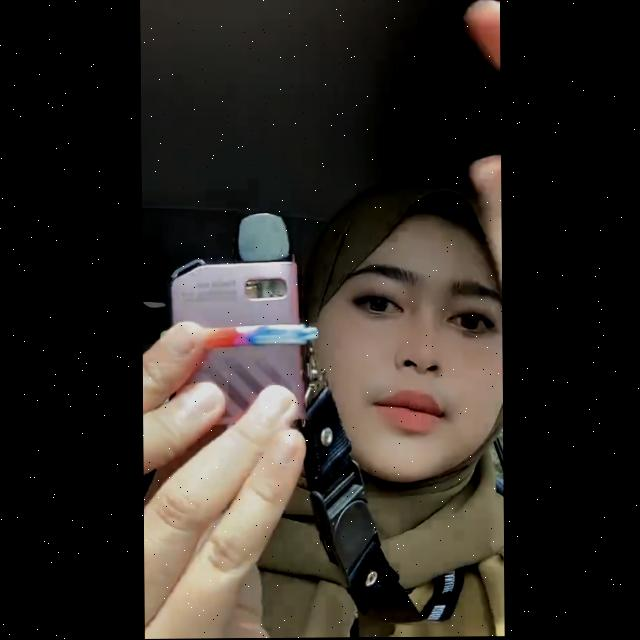vape: (167, 210, 305, 422)
